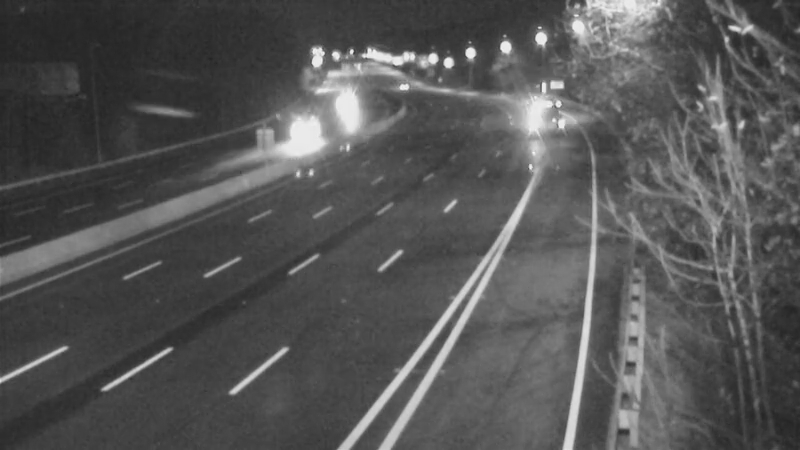vehicle: (380, 61, 430, 111), (511, 87, 561, 137), (280, 115, 330, 165), (319, 75, 369, 125)
